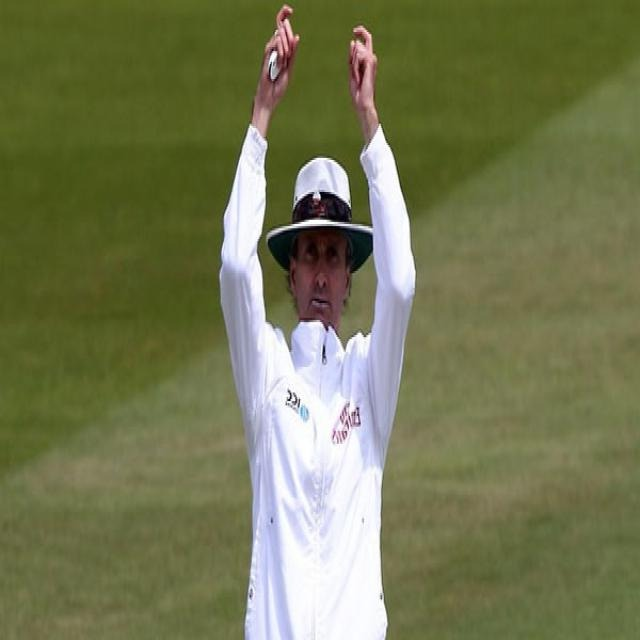Six: (209, 2, 421, 640)
